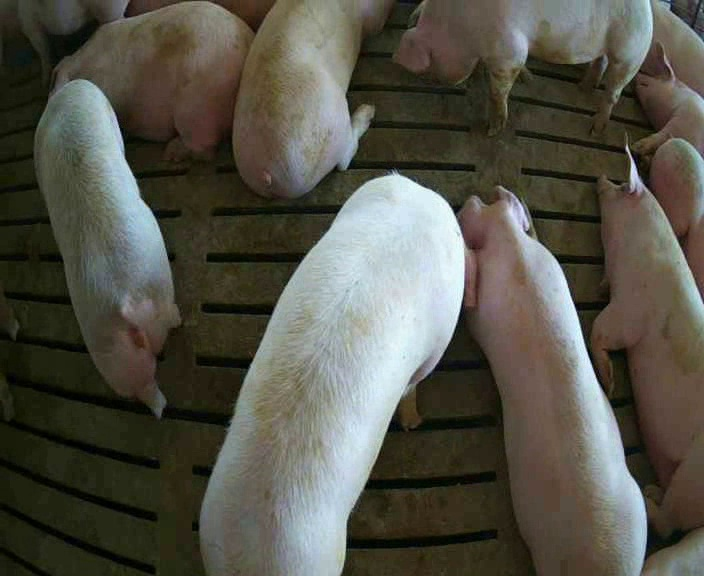pig: (200, 174, 463, 574), (458, 187, 645, 574), (34, 80, 180, 417), (394, 1, 650, 135), (53, 2, 253, 159), (233, 2, 391, 197), (17, 0, 127, 83), (650, 138, 703, 298), (633, 42, 703, 156)
